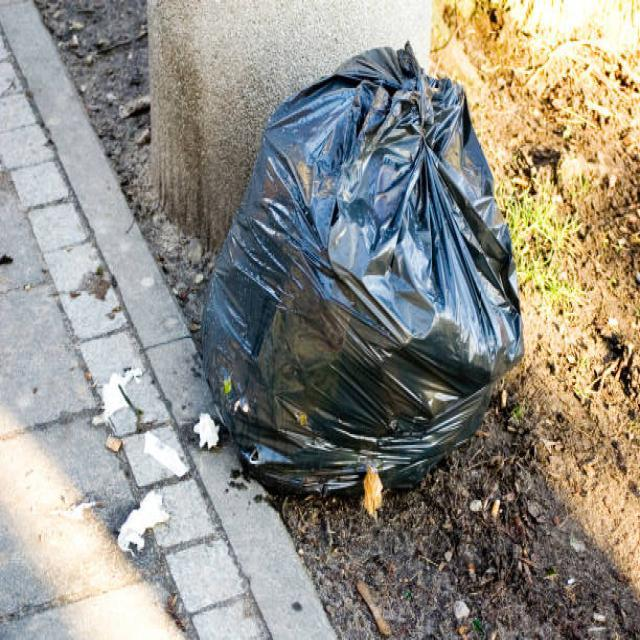garbage: (182, 21, 538, 512)
